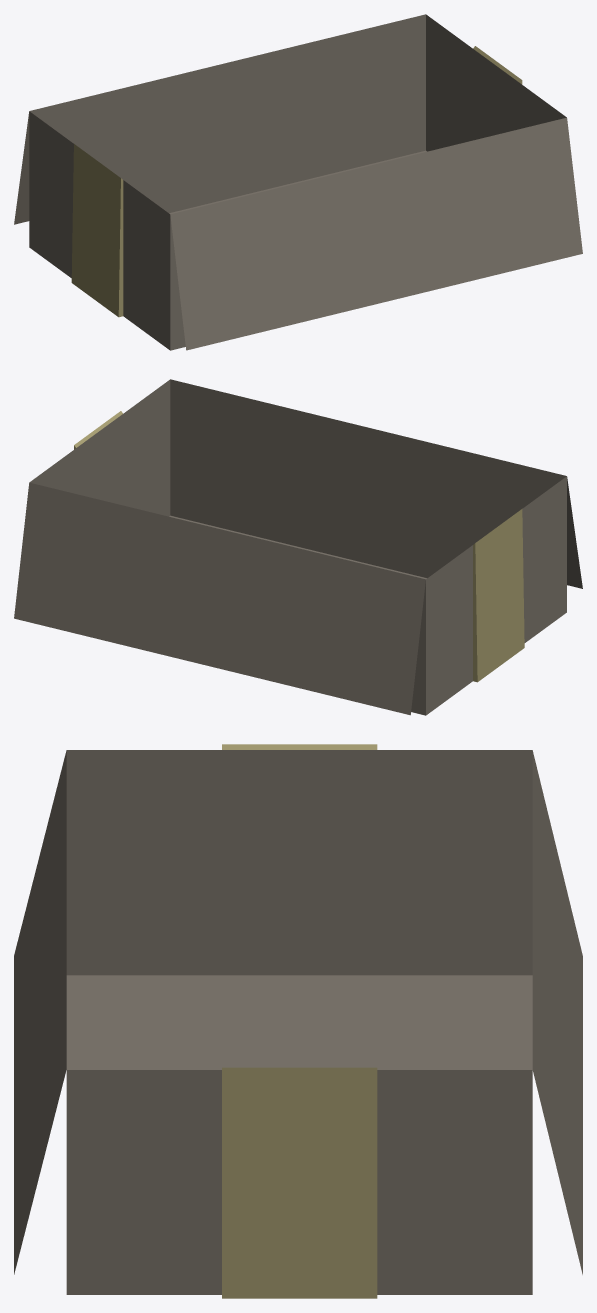
File: box_open2.fbx
3 renders of one model, top to bottom at view 1: azimuth 30°, elevation 25°; view 2: azimuth 150°, elevation 25°; view 3: azimuth 270°, elevation 25°, orthographic. The views are drawn at different scales.
Parts seen in each view (by area): view 1: box_close2_polySurface12_polySurface21, polySurface11; view 2: box_close2_polySurface12_polySurface21, polySurface11; view 3: box_close2_polySurface12_polySurface21, polySurface11.
Boxes of the visible parts, x1,y1,x2,y2 form: box_close2_polySurface12_polySurface21: [14, 14, 582, 350]; polySurface11: [71, 46, 522, 317]; box_close2_polySurface12_polySurface21: [14, 379, 582, 715]; polySurface11: [74, 411, 524, 682]; box_close2_polySurface12_polySurface21: [14, 750, 582, 1294]; polySurface11: [222, 744, 377, 1298].
Size of the model in its own units: 3.55 by 1.16 by 2.61.
Materials: 2 (2 with a texture image).
